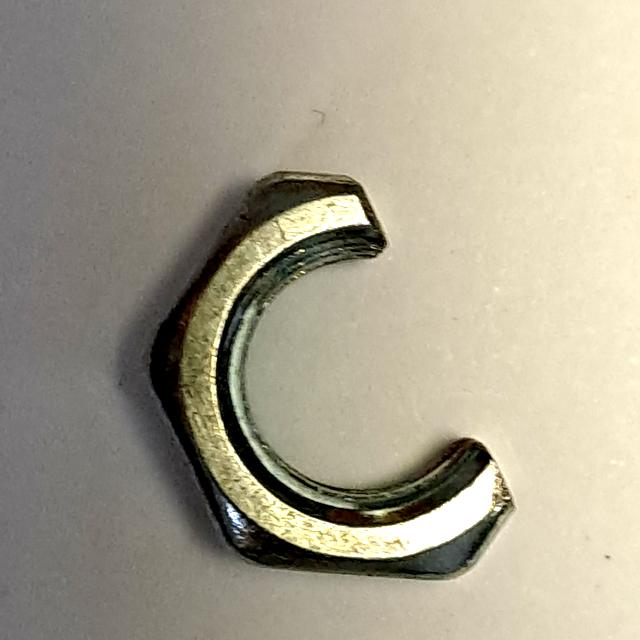Fracture: (121, 147, 564, 596)
